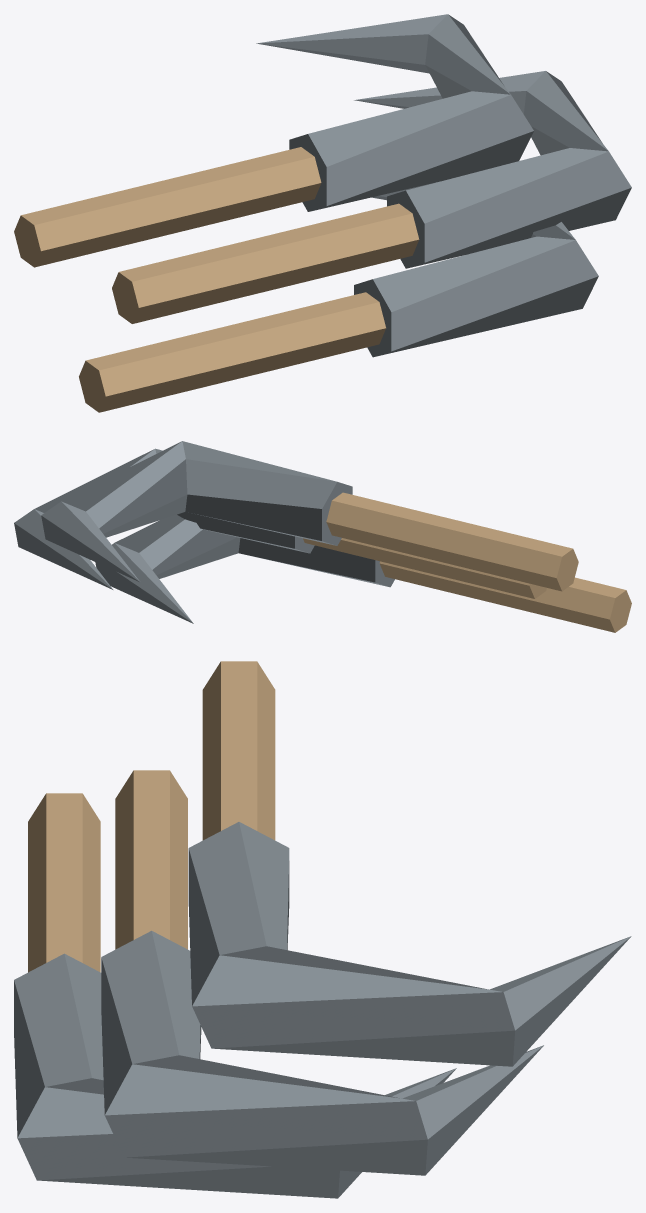
File: item_106_iron_sickle_m.glb
The picture shows the model from 3 angles, top to bottom: view 1: azimuth 30°, elevation 25°; view 2: azimuth 150°, elevation 25°; view 3: azimuth 270°, elevation 25°; orthographic projection. The views are drawn at different scales.
Visible parts, largest first — view 1: item_106_iron_sickle_m; view 2: item_106_iron_sickle_m; view 3: item_106_iron_sickle_m.
Part boxes in pixels (box(x1,y1,x2,y2)): item_106_iron_sickle_m: box(14, 14, 631, 412); item_106_iron_sickle_m: box(14, 441, 631, 632); item_106_iron_sickle_m: box(14, 661, 631, 1198).
Size of the model in its own units: 0.6464 by 0.18 by 0.4246.
